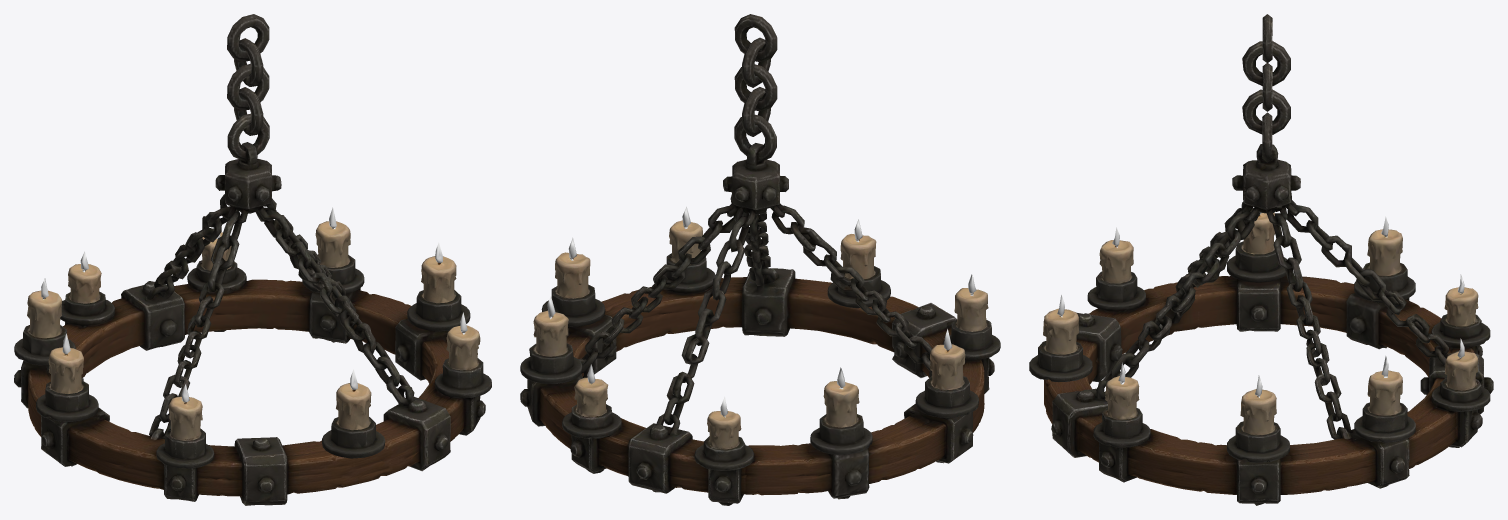
File: Chandelier.fbx
3 renders of one model, left to right at view 1: azimuth 30°, elevation 25°; view 2: azimuth 150°, elevation 25°; view 3: azimuth 270°, elevation 25°, orthographic.
Parts seen in each view (by area): view 1: Chandelier; view 2: Chandelier; view 3: Chandelier.
Part boxes in pixels (bbox=[...]): Chandelier: bbox=[14, 14, 491, 505]; Chandelier: bbox=[520, 14, 1000, 505]; Chandelier: bbox=[1029, 14, 1493, 505].
Bounding box in the file's own units: 196 × 177 × 186.
2 materials, 1 textured.
